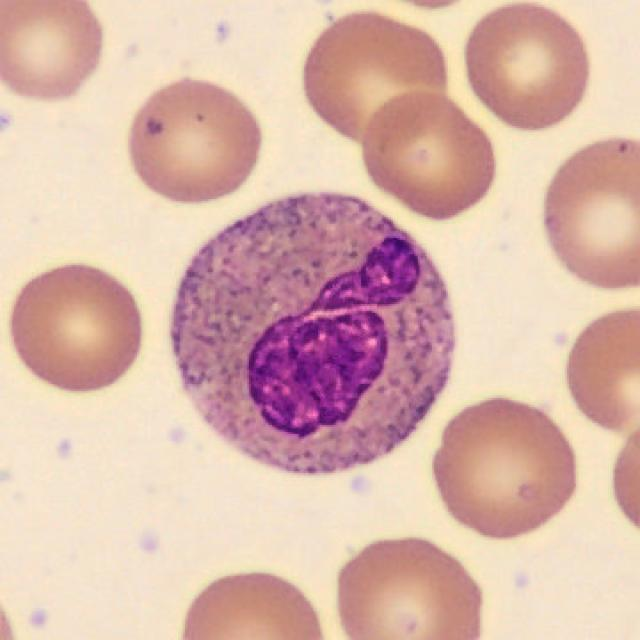Neutrofilo segmentado: (171, 194, 457, 476)
